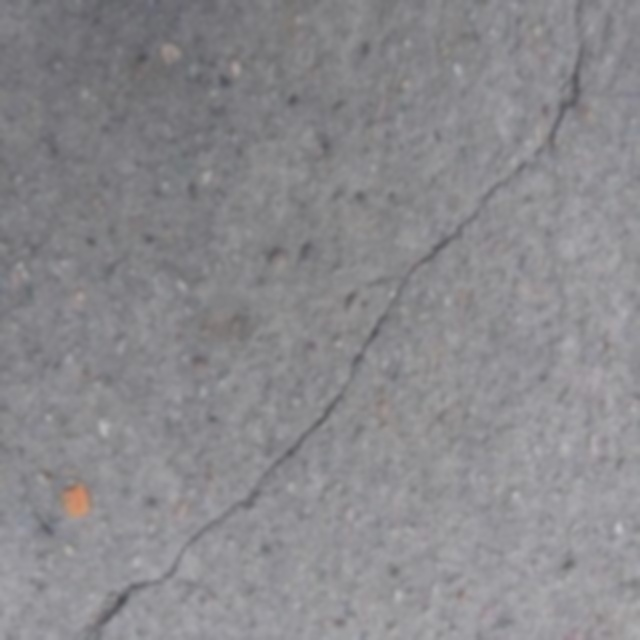SurfaceCrack: (88, 6, 602, 640)
